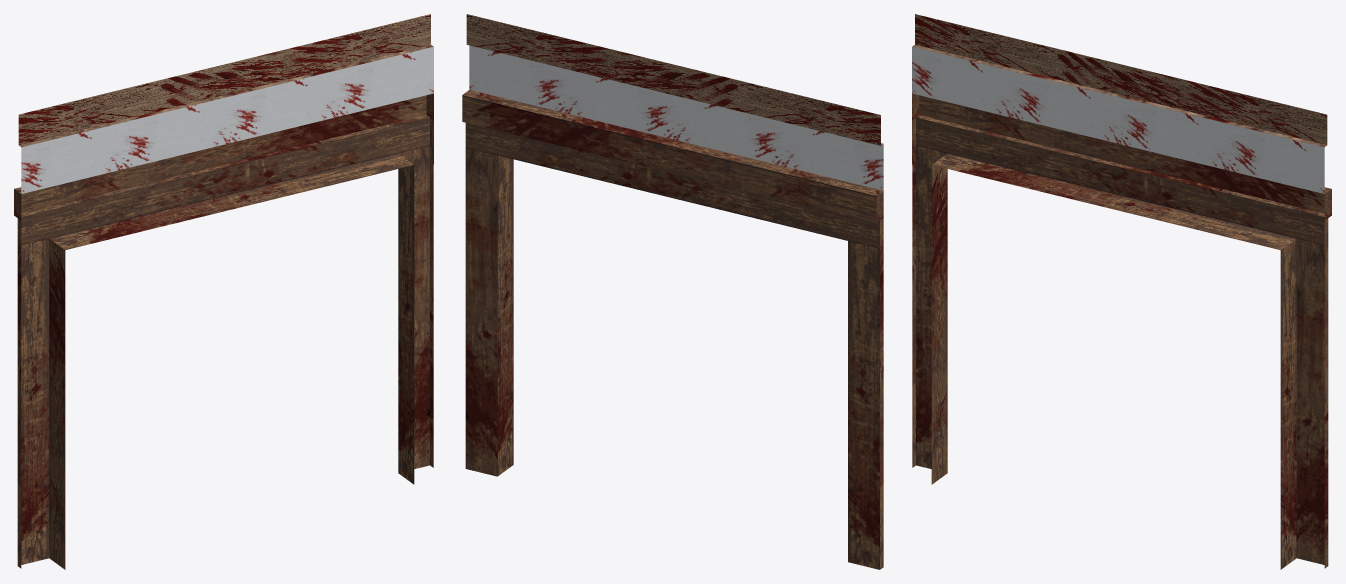
File: wall_arch.fbx
The picture shows the model from 3 angles, left to right: view 1: azimuth 30°, elevation 25°; view 2: azimuth 150°, elevation 25°; view 3: azimuth 330°, elevation 25°; orthographic projection.
Visible parts, largest first — view 1: wall_archobj:Mesh; view 2: wall_archobj:Mesh; view 3: wall_archobj:Mesh.
Boxes of the visible parts, <box> form: wall_archobj:Mesh: <box>14,14,433,569</box>; wall_archobj:Mesh: <box>462,14,883,569</box>; wall_archobj:Mesh: <box>912,14,1331,569</box>.
Bounding box in the file's own units: 2 × 2.1 × 0.1632.
Materials: 3 (3 with a texture image).
